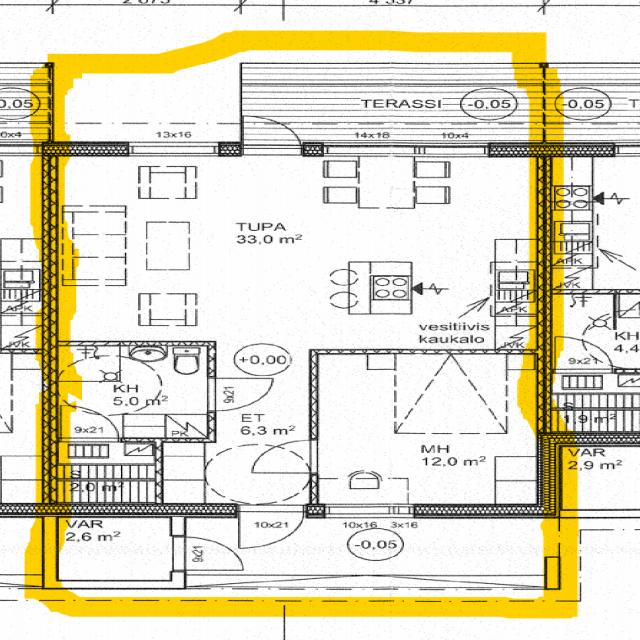door: (238, 504, 306, 557), (242, 108, 301, 156), (170, 537, 245, 570), (60, 405, 118, 442), (253, 440, 318, 472), (208, 378, 273, 410)
